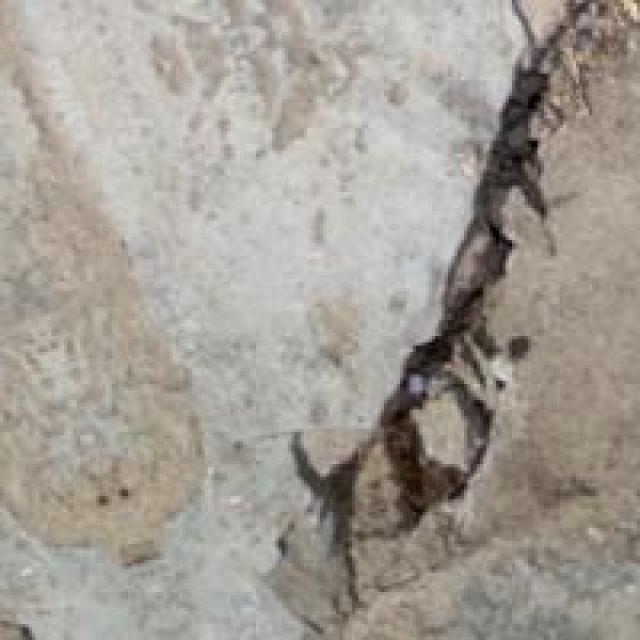crack: (248, 42, 600, 560)
